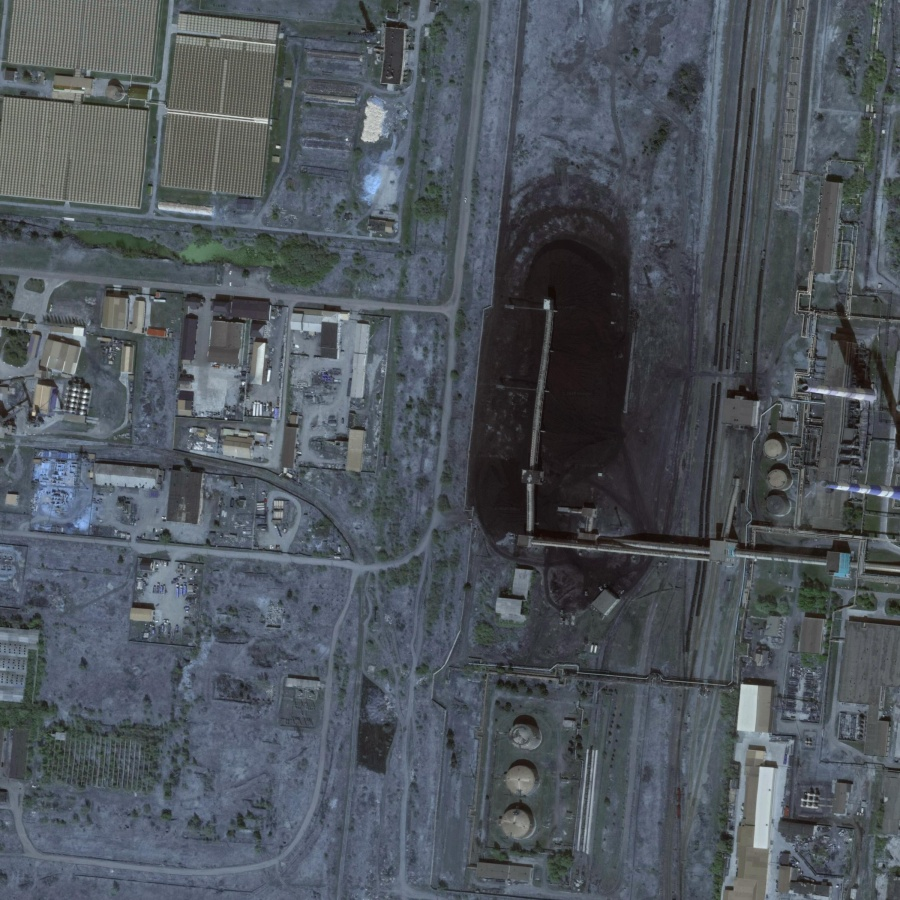PowerPlant: (458, 204, 776, 613), (460, 657, 608, 899)
